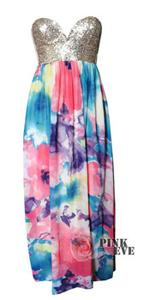C_dress: (21, 12, 123, 295)
